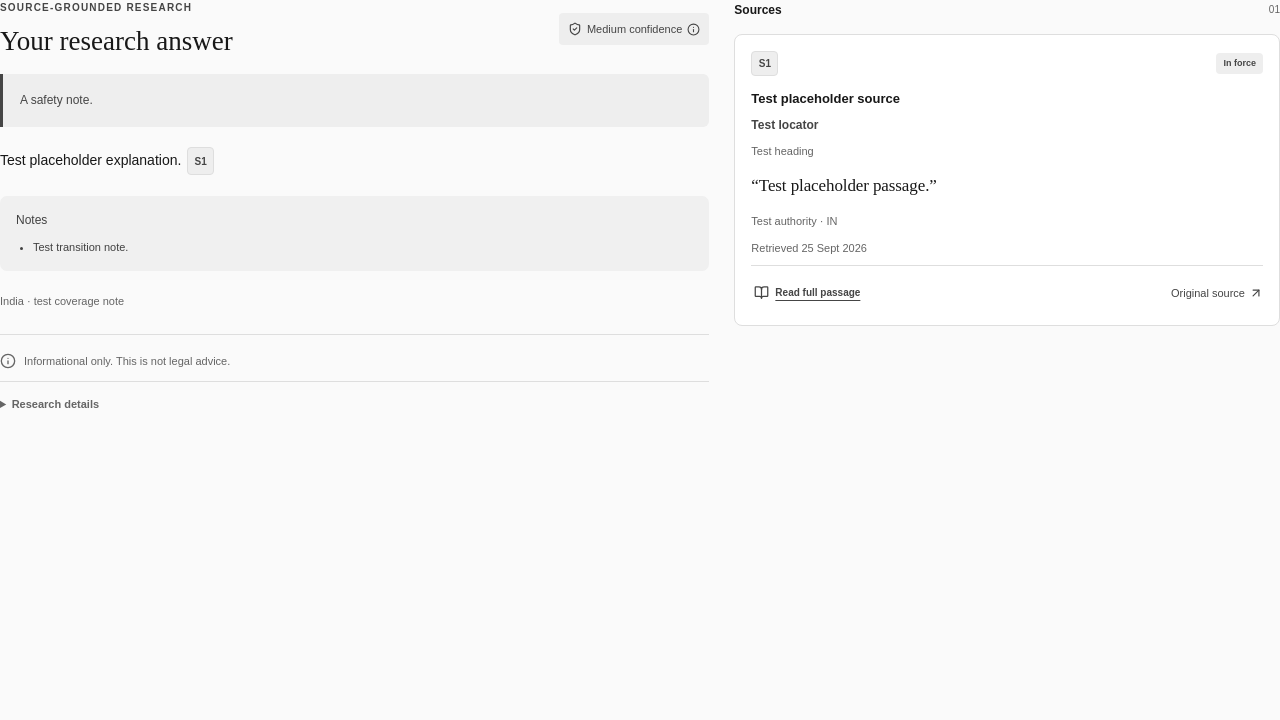
Test case: full passage drawer › shows an error request ID and can retry the source request
The width and height of the screenshot is (1280, 720).
Click the button "Read full passage": x=807, y=293 [751, 277, 863, 309]
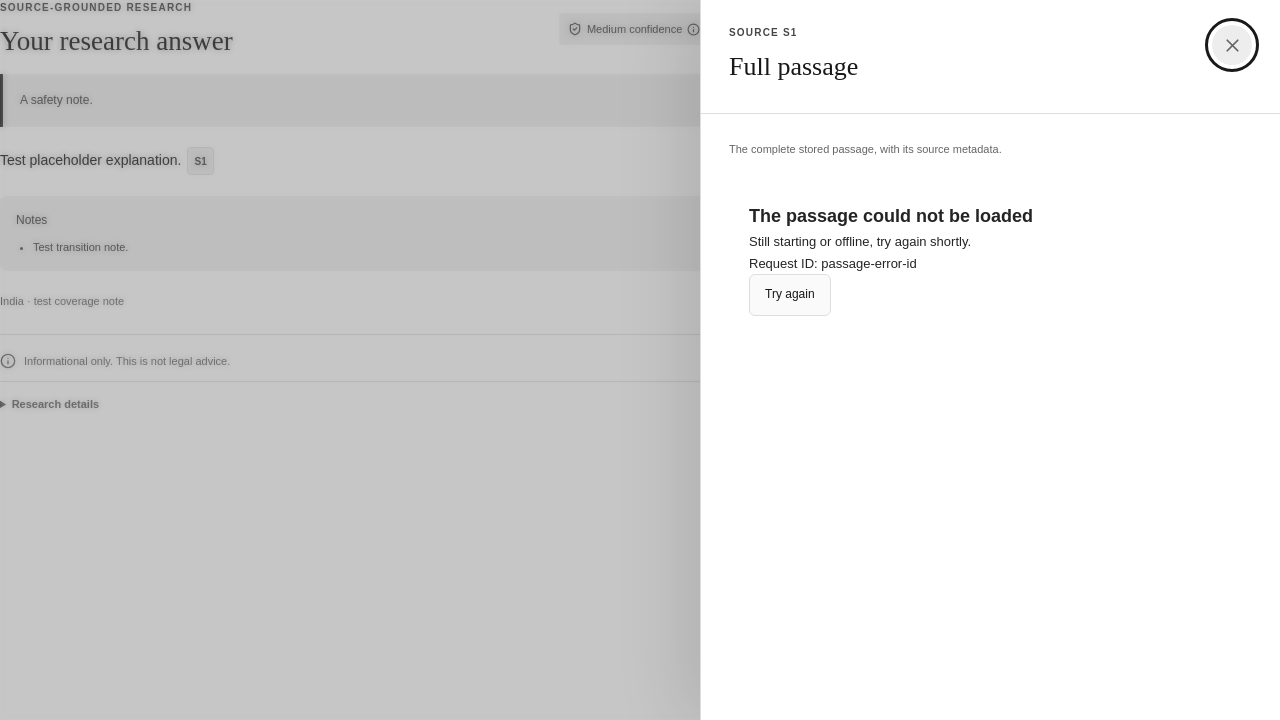
Result: the message shows "Still starting or offline, try again shortly." at [749, 234, 971, 249]
Result: the text "Request ID: passage-error-id" is shown at [749, 256, 917, 271]
Click the button "Try again": x=790, y=295 [749, 274, 831, 316]
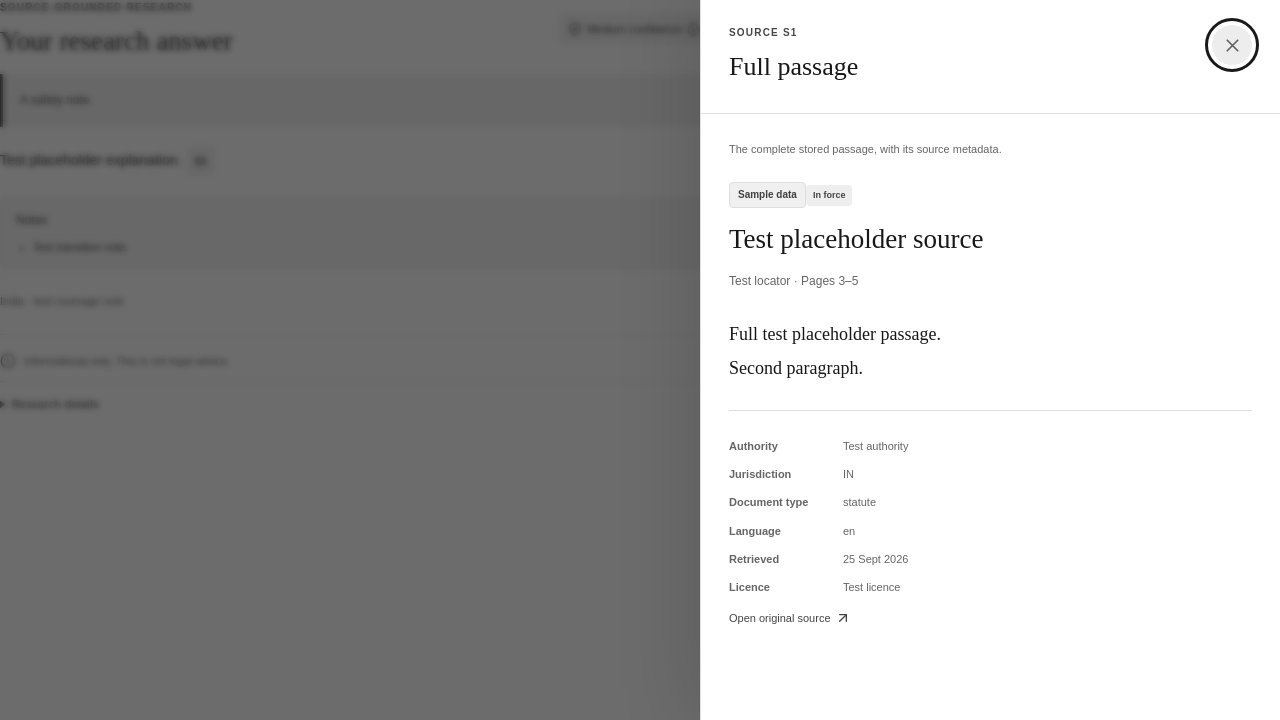
Result: the text "Full test placeholder passage. Second paragraph." is shown at [729, 324, 941, 378]
